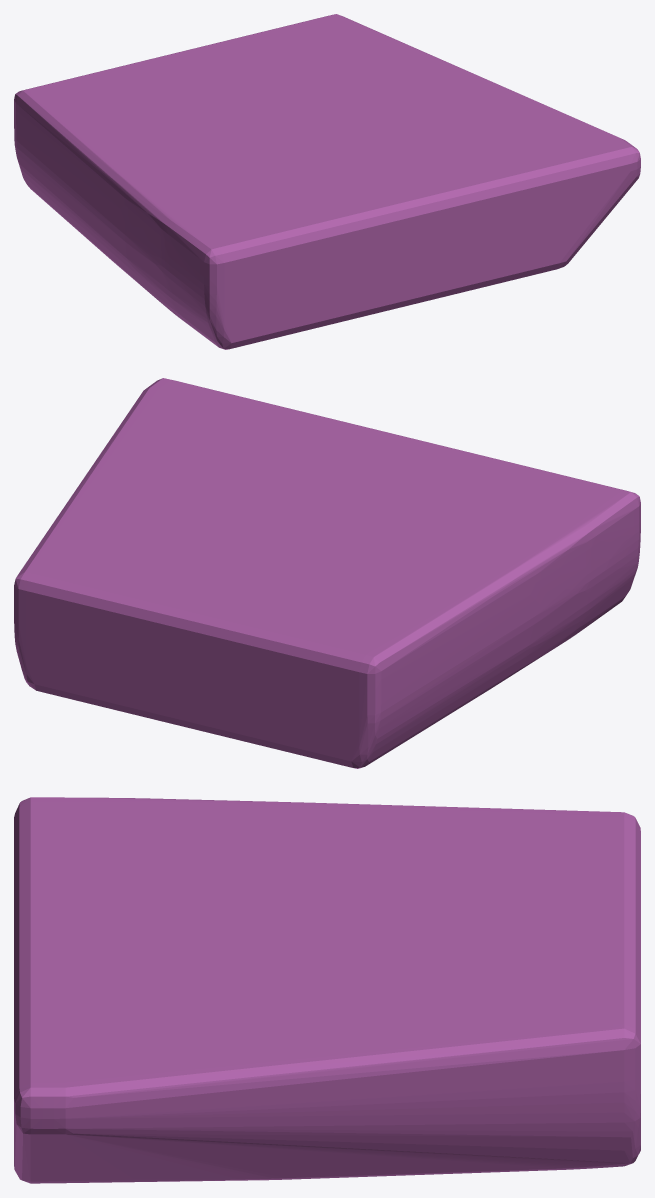
The model's file is left_shoulder_yaw_link_part_7.obj.
3 renders of one model, top to bottom at view 1: azimuth 30°, elevation 25°; view 2: azimuth 150°, elevation 25°; view 3: azimuth 270°, elevation 25°, orthographic. The views are drawn at different scales.
Bounding box in the file's own units: 0.0713 × 0.0163 × 0.0628.
